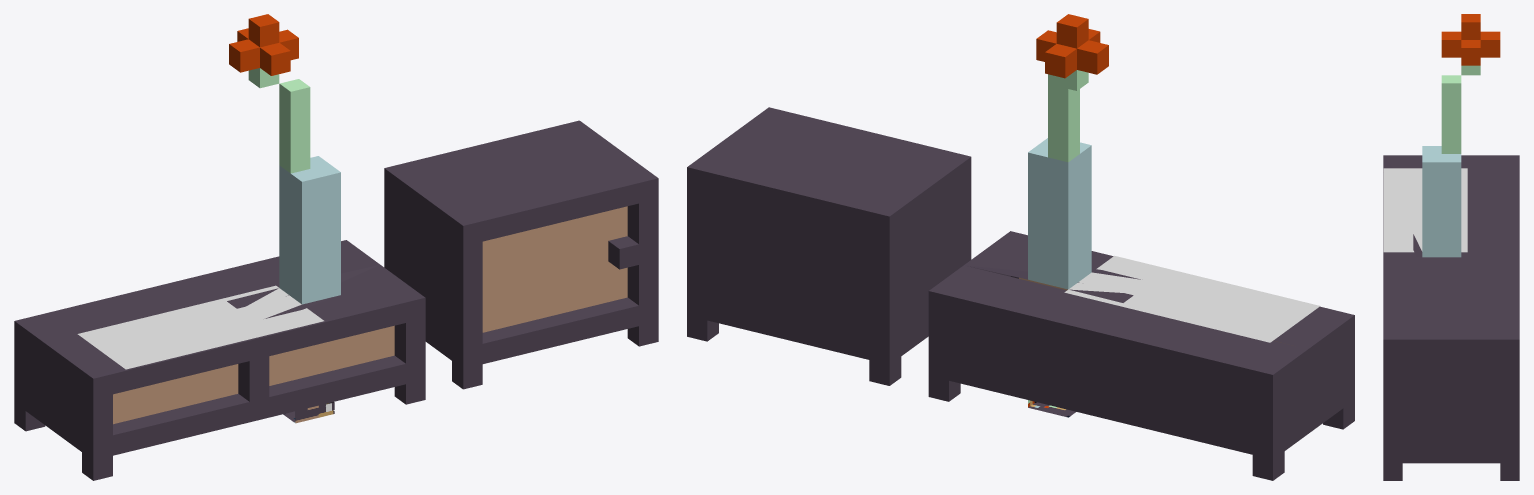
The model's file is lobby_cupboards.fbx.
3 views of the same model, side by side, from view 1: azimuth 30°, elevation 25°; view 2: azimuth 150°, elevation 25°; view 3: azimuth 270°, elevation 25° (orthographic). The views are drawn at different scales.
Visible parts, largest first — view 1: furniture.001, Plane; view 2: furniture.001, Plane; view 3: furniture.001, Plane.
Boxes of the visible parts, bbox=[...] form: furniture.001: bbox=[14, 14, 658, 480]; Plane: bbox=[77, 285, 323, 369]; furniture.001: bbox=[687, 14, 1354, 480]; Plane: bbox=[1064, 255, 1319, 342]; furniture.001: bbox=[1383, 14, 1519, 480]; Plane: bbox=[1383, 168, 1467, 252].
Bounding box in the file's own units: 2893 × 1909 × 700.
